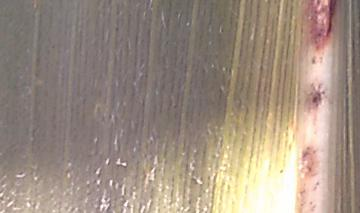tarspot: (114, 23, 122, 34), (280, 166, 285, 177), (50, 44, 56, 50)
